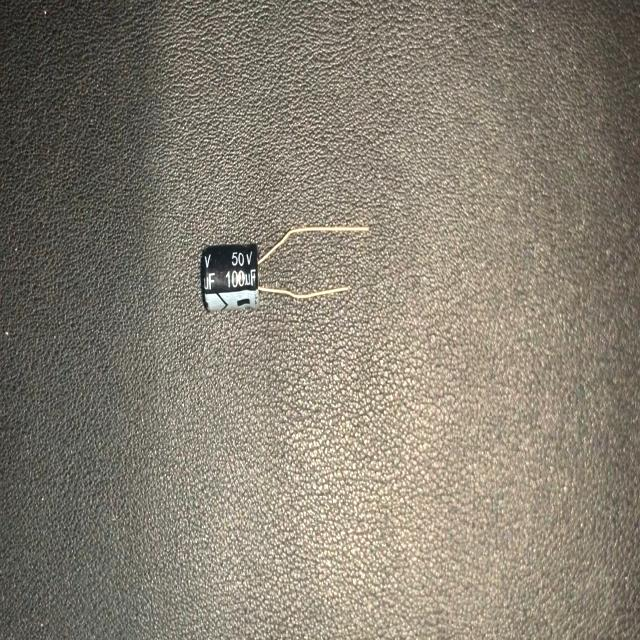capacitor: (197, 224, 368, 314)
